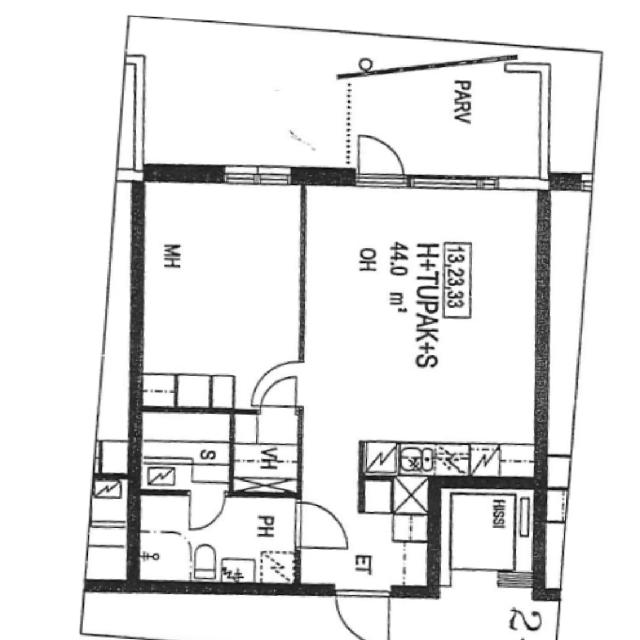door: (326, 580, 396, 640), (348, 130, 412, 189), (288, 496, 350, 552), (248, 362, 306, 414), (184, 484, 232, 533), (494, 569, 532, 594)
window: (216, 160, 301, 191), (406, 168, 500, 196)
zone: (306, 195, 553, 482), (134, 173, 306, 404), (136, 488, 300, 590), (276, 487, 396, 582), (442, 481, 542, 586), (137, 408, 235, 494), (230, 408, 304, 496), (135, 372, 183, 410)
